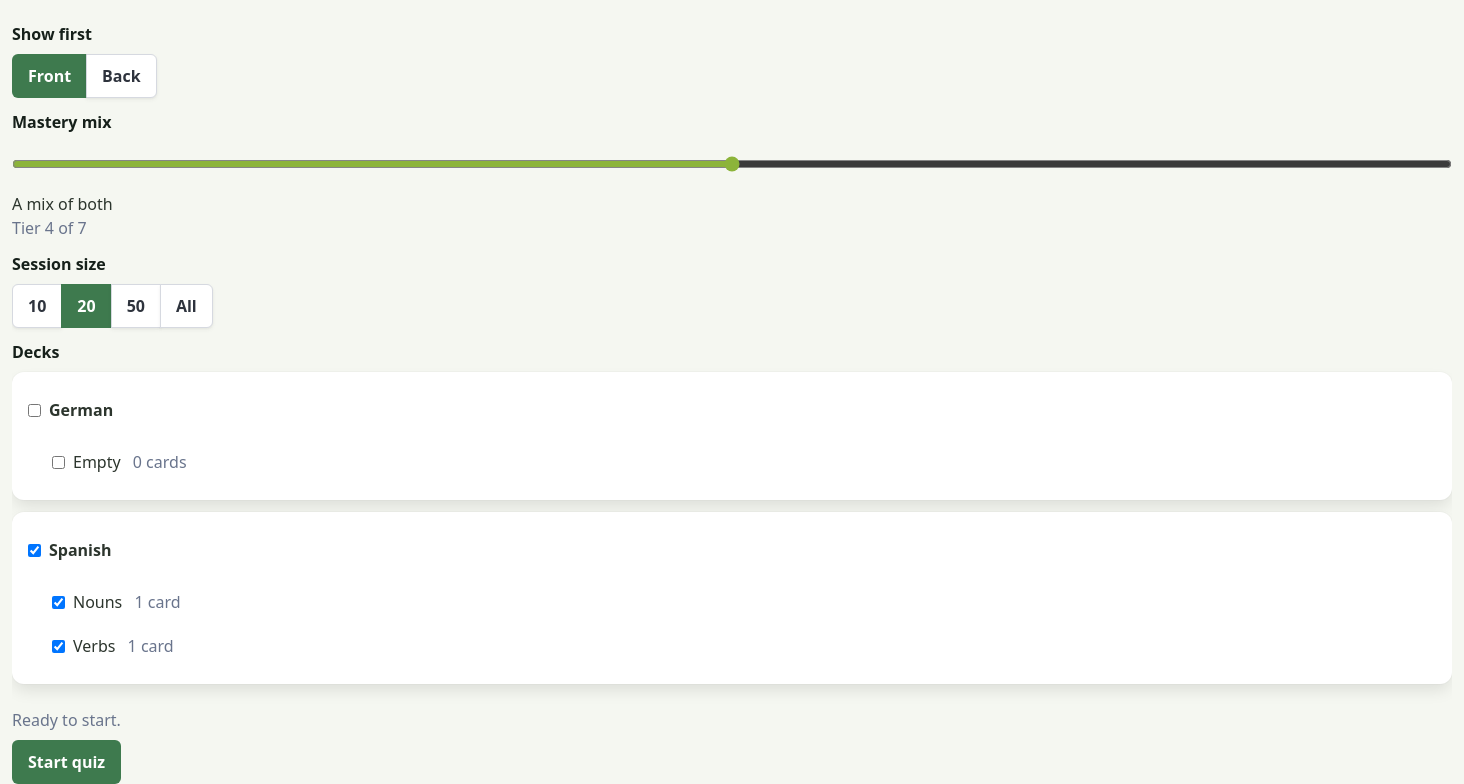
QuizConfigureView › reports a pool it could not read rather than blaming the decks
Click the button with test id "quiz-start" at [67, 762], box top-left (12, 740), bottom-right (121, 783)
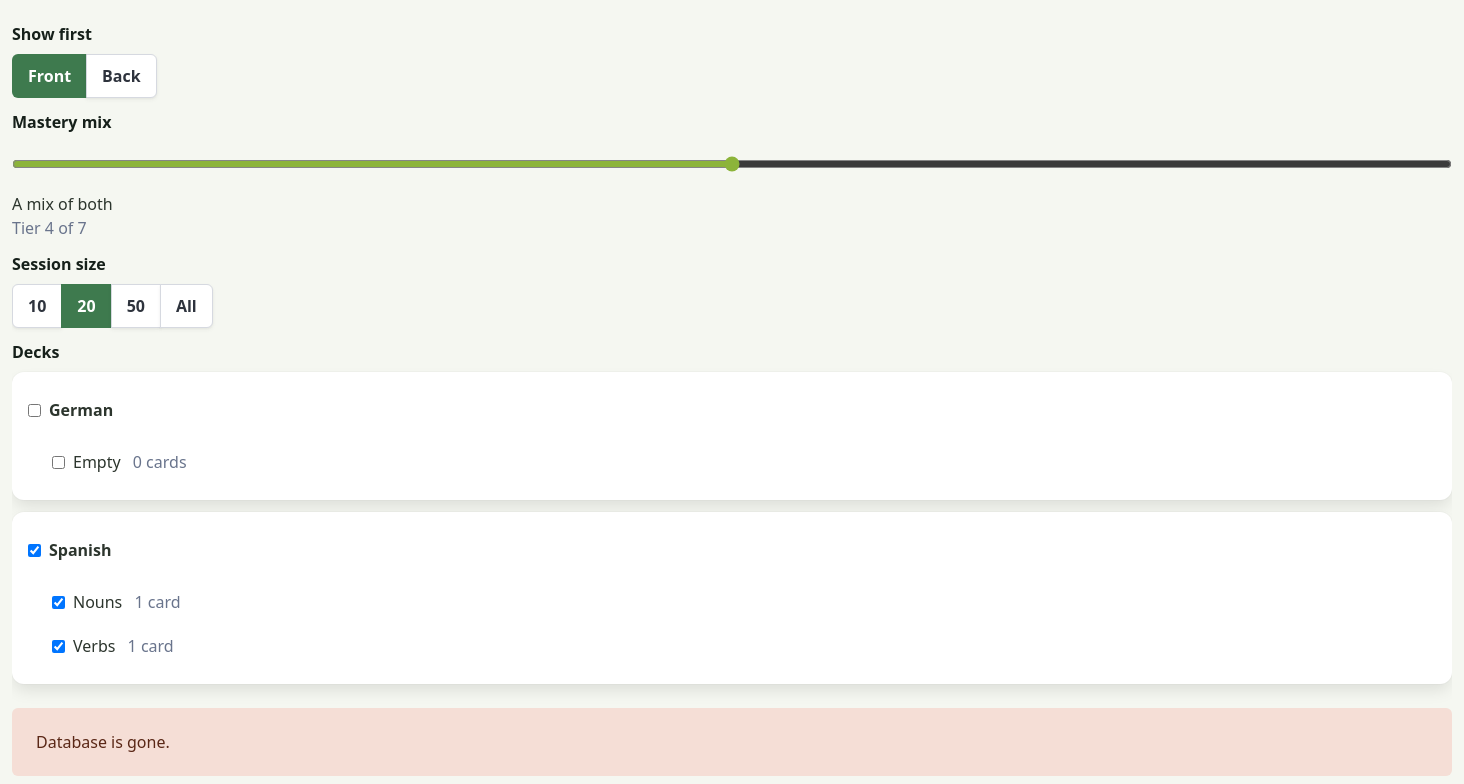
Expected: the text with test id "quiz-error" reads "Database is gone.", top-left (36, 731), bottom-right (170, 753)
